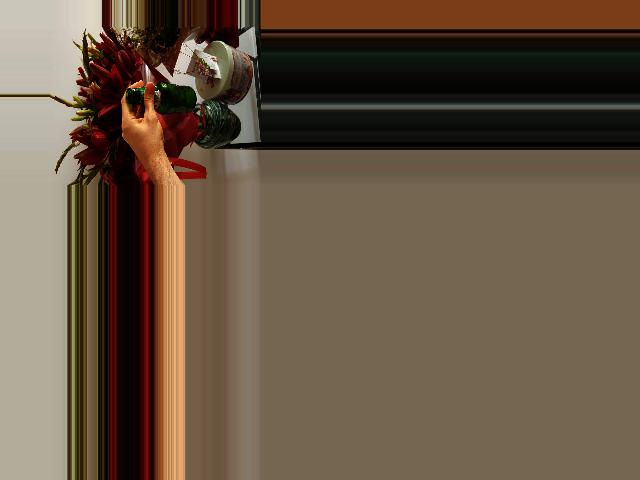beer: (126, 81, 197, 113)
